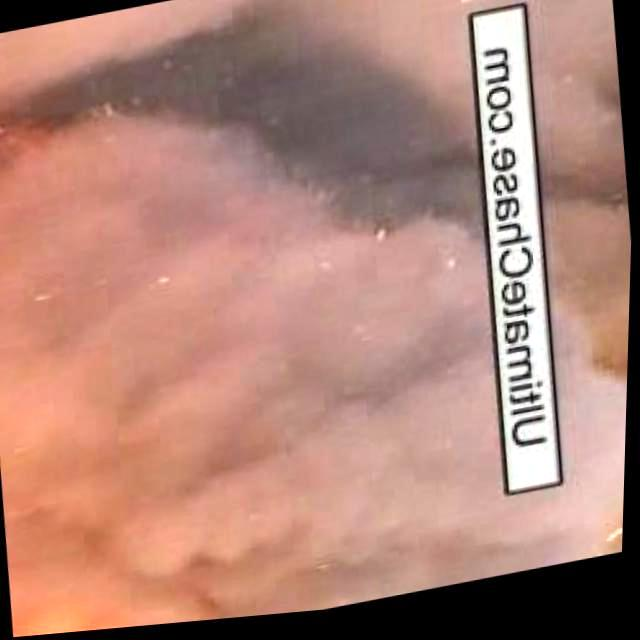fire: (8, 513, 204, 639), (570, 322, 632, 566), (0, 62, 84, 178)
